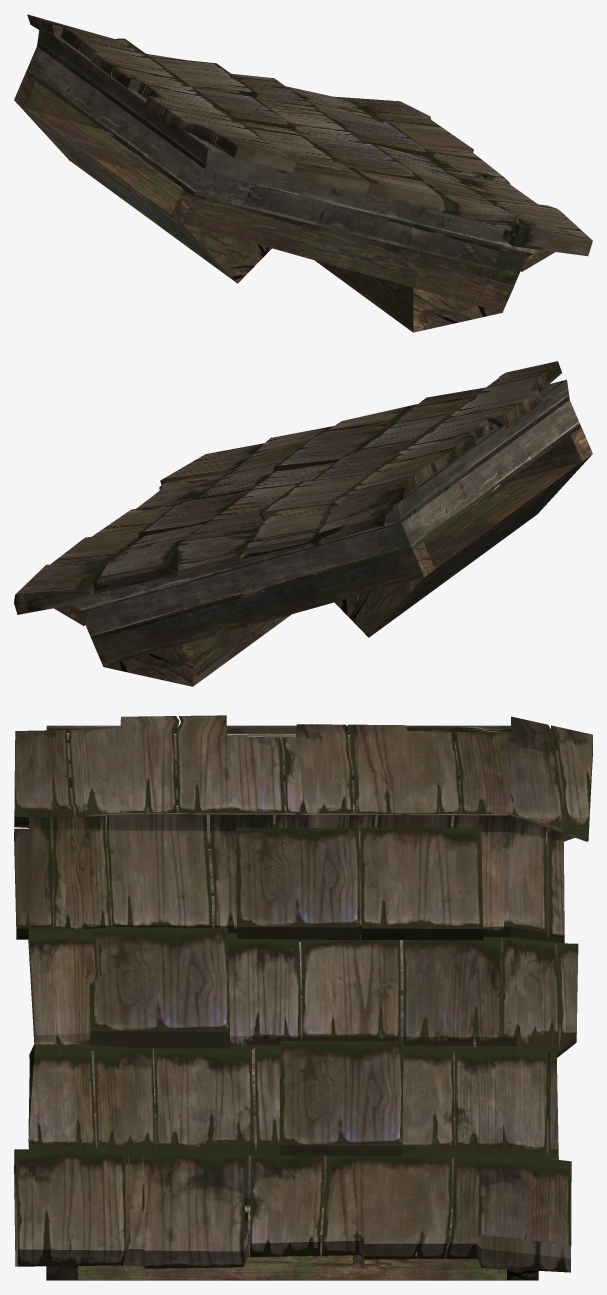
3 renders of one model, top to bottom at view 1: azimuth 30°, elevation 25°; view 2: azimuth 150°, elevation 25°; view 3: azimuth 270°, elevation 25°, orthographic. The views are drawn at different scales.
Parts seen in each view (by area): view 1: SM_T1_Roof_Med_Shallow_LOD0; view 2: SM_T1_Roof_Med_Shallow_LOD0; view 3: SM_T1_Roof_Med_Shallow_LOD0.
Part boxes in pixels (box(x1,y1,x2,y2)): SM_T1_Roof_Med_Shallow_LOD0: box(14, 14, 592, 332); SM_T1_Roof_Med_Shallow_LOD0: box(14, 361, 592, 686); SM_T1_Roof_Med_Shallow_LOD0: box(14, 715, 592, 1280).
Bounding box in the file's own units: 2.08 × 1.2 × 1.76.
3 materials, 3 textured.
